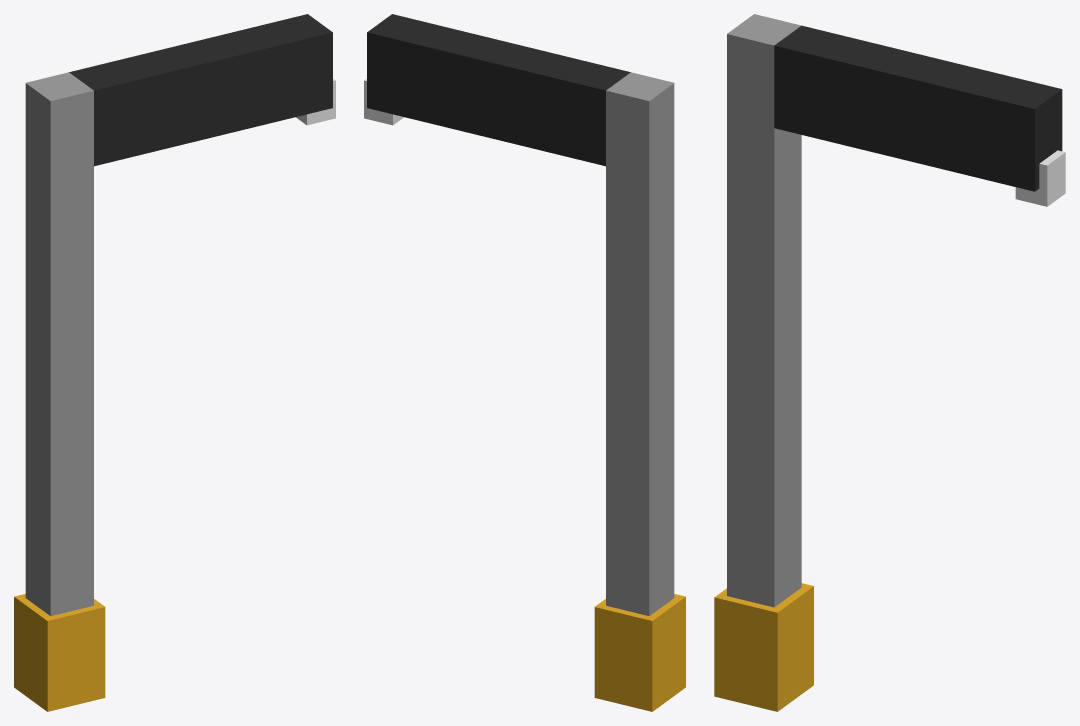
File: electrode_ascii.obj
3 views of the same model, side by side, from view 1: azimuth 30°, elevation 25°; view 2: azimuth 150°, elevation 25°; view 3: azimuth 330°, elevation 25° (orthographic). The views are drawn at different scales.
Visible parts, largest first — view 1: Vertical_Shaft, Horizontal_Arm, Handle_Band; view 2: Vertical_Shaft, Horizontal_Arm, Handle_Band; view 3: Vertical_Shaft, Horizontal_Arm, Handle_Band, Electrode_Tip.
Boxes of the visible parts, box(x1,y1,x2,y2) form: Vertical_Shaft: box(25, 72, 93, 616); Horizontal_Arm: box(69, 14, 332, 166); Handle_Band: box(14, 594, 105, 711); Vertical_Shaft: box(606, 72, 674, 616); Horizontal_Arm: box(367, 14, 630, 166); Handle_Band: box(594, 594, 685, 711); Vertical_Shaft: box(727, 14, 801, 607); Horizontal_Arm: box(774, 25, 1062, 191); Handle_Band: box(714, 583, 813, 711); Electrode_Tip: box(1015, 150, 1065, 206).
Bounding box in the file's own units: 2.05 × 4 × 0.4.
